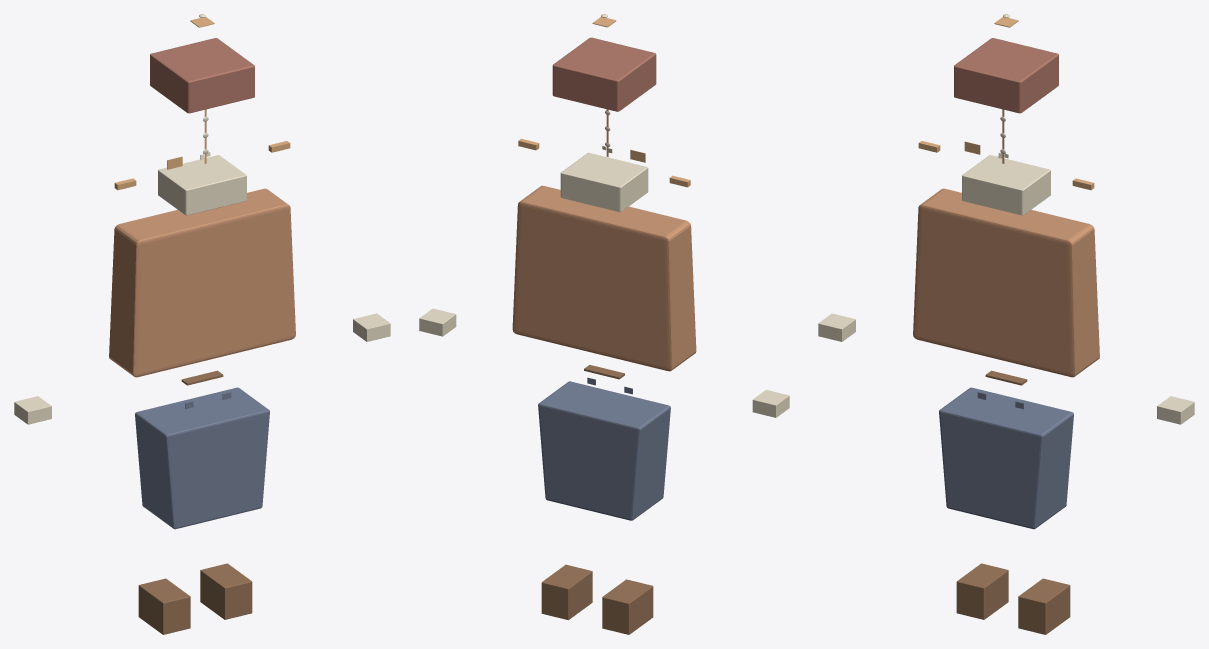
File: outfit_cozy.glb
The picture shows the model from 3 angles, left to right: view 1: azimuth 30°, elevation 25°; view 2: azimuth 150°, elevation 25°; view 3: azimuth 330°, elevation 25°; orthographic projection.
Visible parts, largest first — view 1: outfit_cozy_chest_sweater, outfit_cozy_pants, outfit_cozy_head_beanie, outfit_cozy_neck_scarf_main, outfit_cozy_boot_L, outfit_cozy_boot_R, outfit_cozy_hand_wrap_L, outfit_cozy_hand_wrap_R; view 2: outfit_cozy_chest_sweater, outfit_cozy_pants, outfit_cozy_head_beanie, outfit_cozy_neck_scarf_main, outfit_cozy_boot_L, outfit_cozy_boot_R, outfit_cozy_hand_wrap_R, outfit_cozy_hand_wrap_L; view 3: outfit_cozy_chest_sweater, outfit_cozy_pants, outfit_cozy_head_beanie, outfit_cozy_neck_scarf_main, outfit_cozy_boot_R, outfit_cozy_boot_L, outfit_cozy_hand_wrap_L, outfit_cozy_hand_wrap_R.
Boxes of the visible parts, bbox=[...] form: outfit_cozy_chest_sweater: bbox=[109, 188, 295, 377]; outfit_cozy_pants: bbox=[135, 387, 269, 529]; outfit_cozy_head_beanie: bbox=[150, 38, 254, 113]; outfit_cozy_neck_scarf_main: bbox=[158, 155, 246, 215]; outfit_cozy_boot_L: bbox=[138, 578, 190, 634]; outfit_cozy_boot_R: bbox=[200, 563, 252, 619]; outfit_cozy_hand_wrap_L: bbox=[14, 396, 51, 424]; outfit_cozy_hand_wrap_R: bbox=[353, 313, 390, 341]; outfit_cozy_chest_sweater: bbox=[512, 185, 696, 371]; outfit_cozy_pants: bbox=[538, 381, 670, 520]; outfit_cozy_head_beanie: bbox=[552, 37, 656, 111]; outfit_cozy_neck_scarf_main: bbox=[560, 152, 648, 212]; outfit_cozy_boot_L: bbox=[602, 579, 653, 634]; outfit_cozy_boot_R: bbox=[541, 564, 592, 620]; outfit_cozy_hand_wrap_R: bbox=[419, 308, 456, 336]; outfit_cozy_hand_wrap_L: bbox=[752, 390, 789, 417]; outfit_cozy_chest_sweater: bbox=[913, 188, 1099, 377]; outfit_cozy_pants: bbox=[939, 387, 1073, 529]; outfit_cozy_head_beanie: bbox=[954, 38, 1058, 113]; outfit_cozy_neck_scarf_main: bbox=[962, 155, 1050, 215]; outfit_cozy_boot_R: bbox=[1018, 578, 1070, 634]; outfit_cozy_boot_L: bbox=[956, 563, 1008, 619]; outfit_cozy_hand_wrap_L: bbox=[818, 313, 855, 341]; outfit_cozy_hand_wrap_R: bbox=[1157, 396, 1194, 424].
Size of the model in its own units: 1.18 by 1.88 by 0.22.
